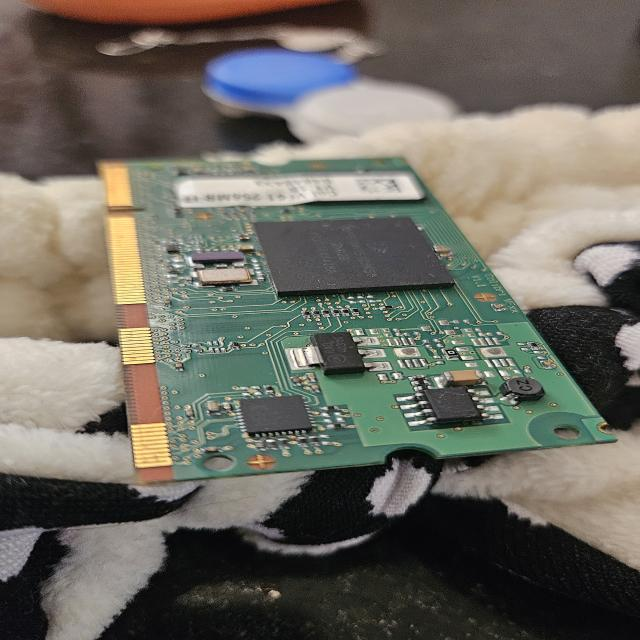som: (89, 154, 633, 487)
